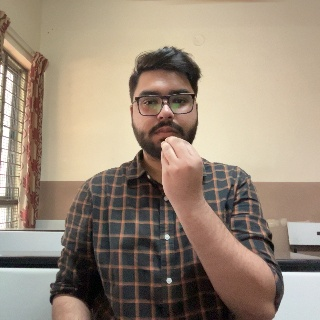Food: (157, 133, 211, 219)
